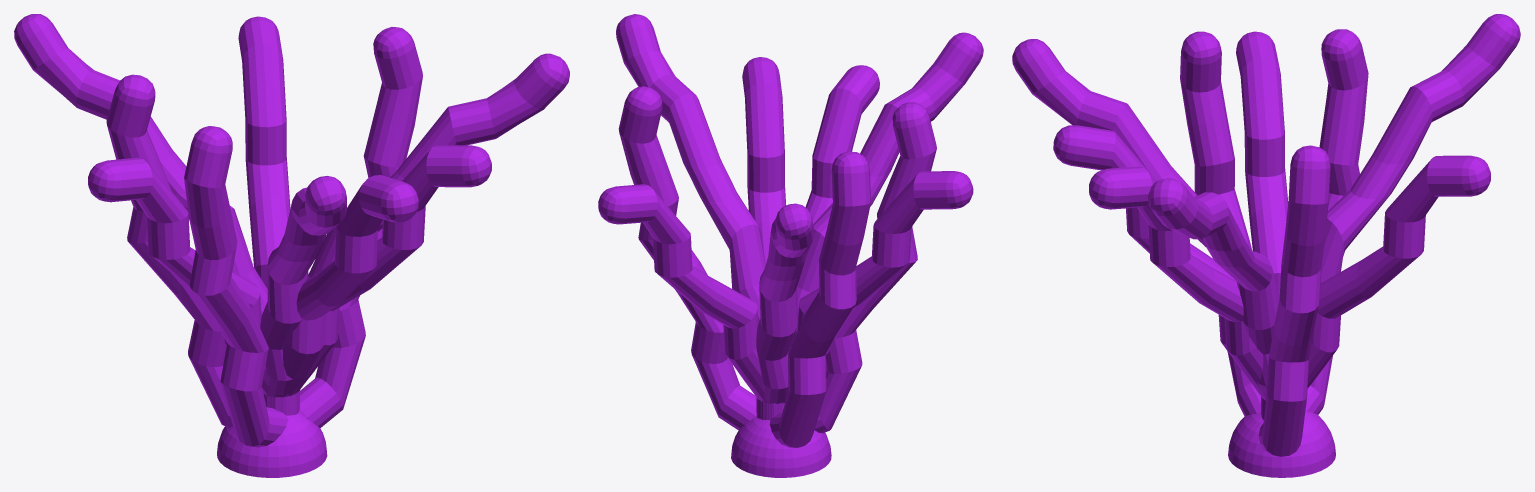
The picture shows the model from 3 angles, left to right: view 1: azimuth 30°, elevation 25°; view 2: azimuth 150°, elevation 25°; view 3: azimuth 270°, elevation 25°; orthographic projection. The views are drawn at different scales.
Parts seen in each view (by area): view 1: Cube.001; view 2: Cube.001; view 3: Cube.001.
Part boxes in pixels (box(x1,y1,x2,y2)): Cube.001: box(14, 14, 569, 477); Cube.001: box(598, 14, 983, 477); Cube.001: box(1012, 14, 1520, 477).
Bounding box in the file's own units: 1.07 × 0.9181 × 1.12.
